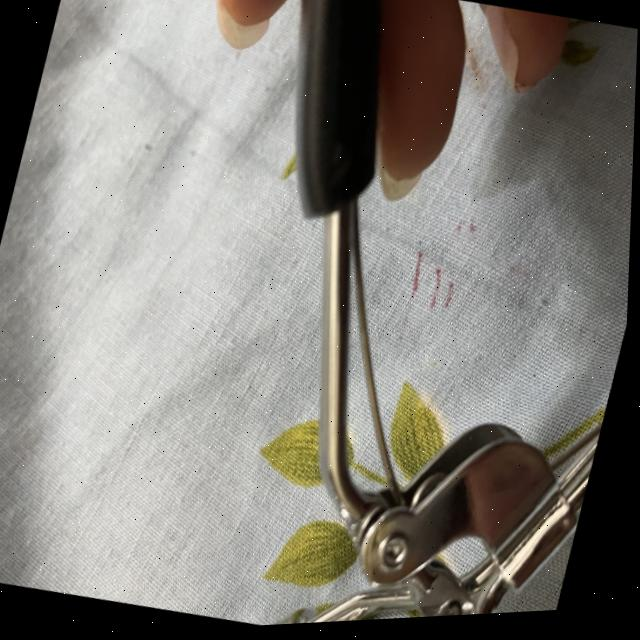eyelash curler: (123, 0, 640, 634)
